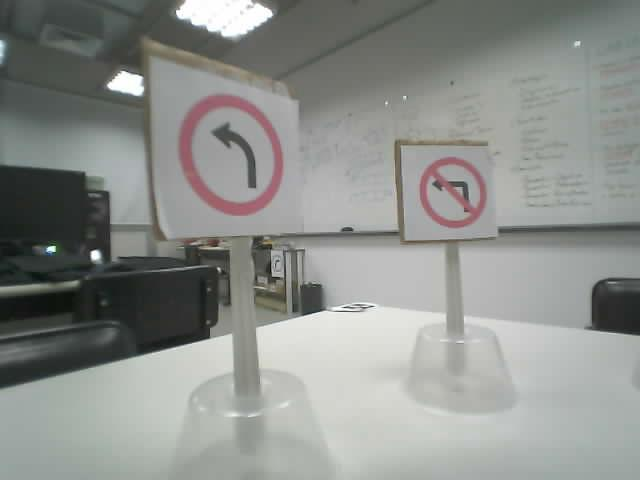R-25a_esquerda: (177, 92, 284, 216)
R-4a_proibido-esquerda: (417, 156, 485, 228)
